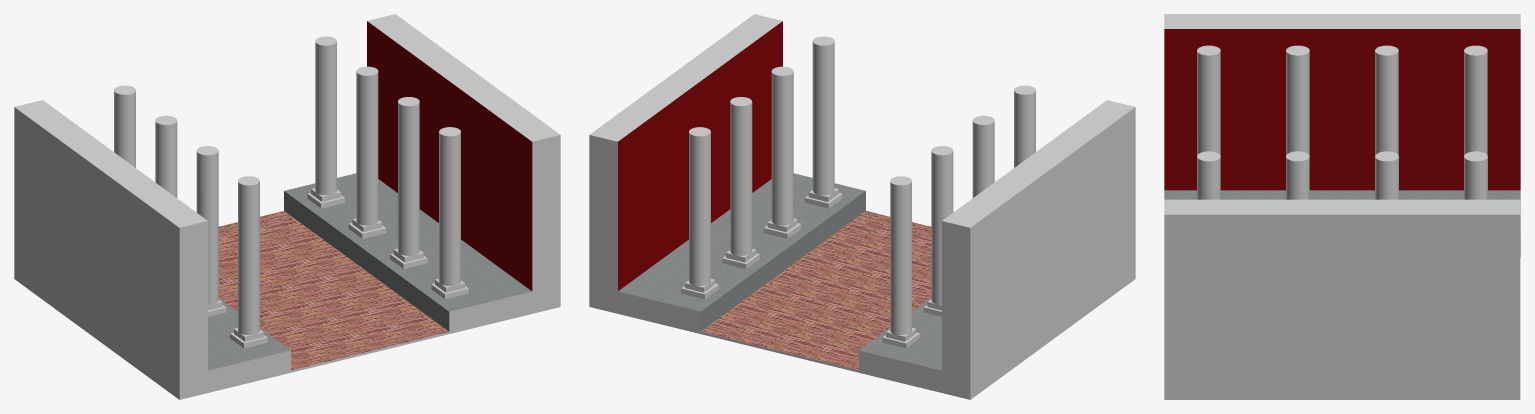
The model's file is CollegeRun_baseUnit.dae.
3 renders of one model, left to right at view 1: azimuth 30°, elevation 25°; view 2: azimuth 150°, elevation 25°; view 3: azimuth 270°, elevation 25°, orthographic. The views are drawn at different scales.
Parts seen in each view (by area): view 1: SketchUp (×13); view 2: SketchUp (×13); view 3: SketchUp (×11).
Boxes of the visible parts, x1=… form: SketchUp (×13): x1=14, y1=14, x2=560, y2=399; SketchUp (×13): x1=589, y1=14, x2=1135, y2=399; SketchUp (×11): x1=1164, y1=14, x2=1520, y2=399.
Bounding box in the file's own units: 480 × 360 × 219.
